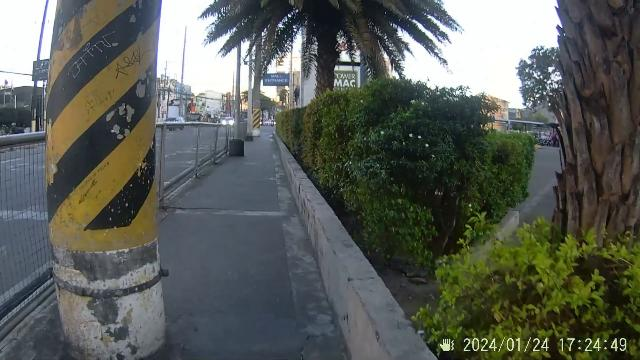utility_post: (57, 5, 163, 355)
